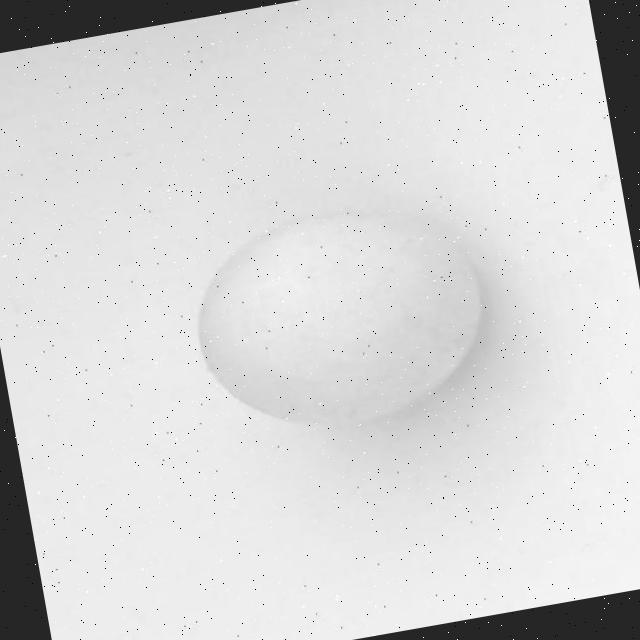ping-pong-ball: (182, 190, 494, 442)
